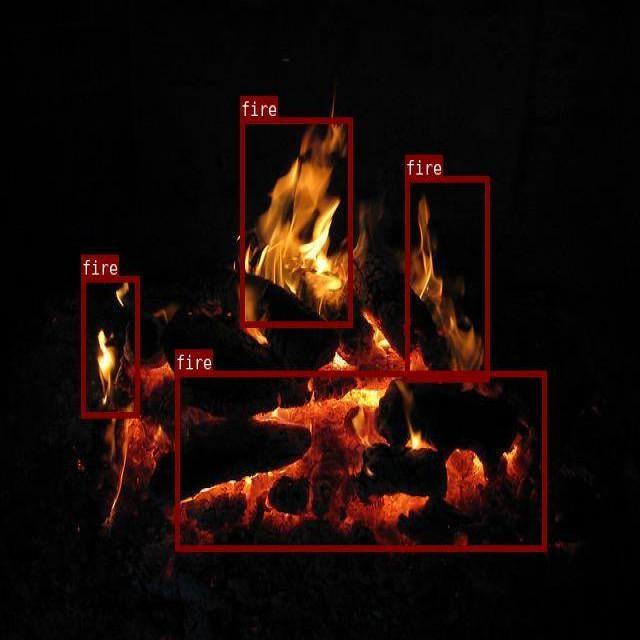fire: (174, 371, 546, 551), (240, 117, 351, 326), (404, 175, 489, 381), (81, 276, 138, 417)
